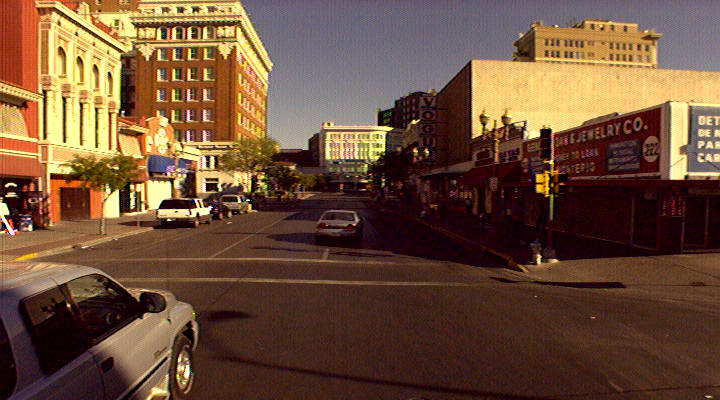Ramp: (513, 247, 720, 295), (1, 245, 25, 264)
